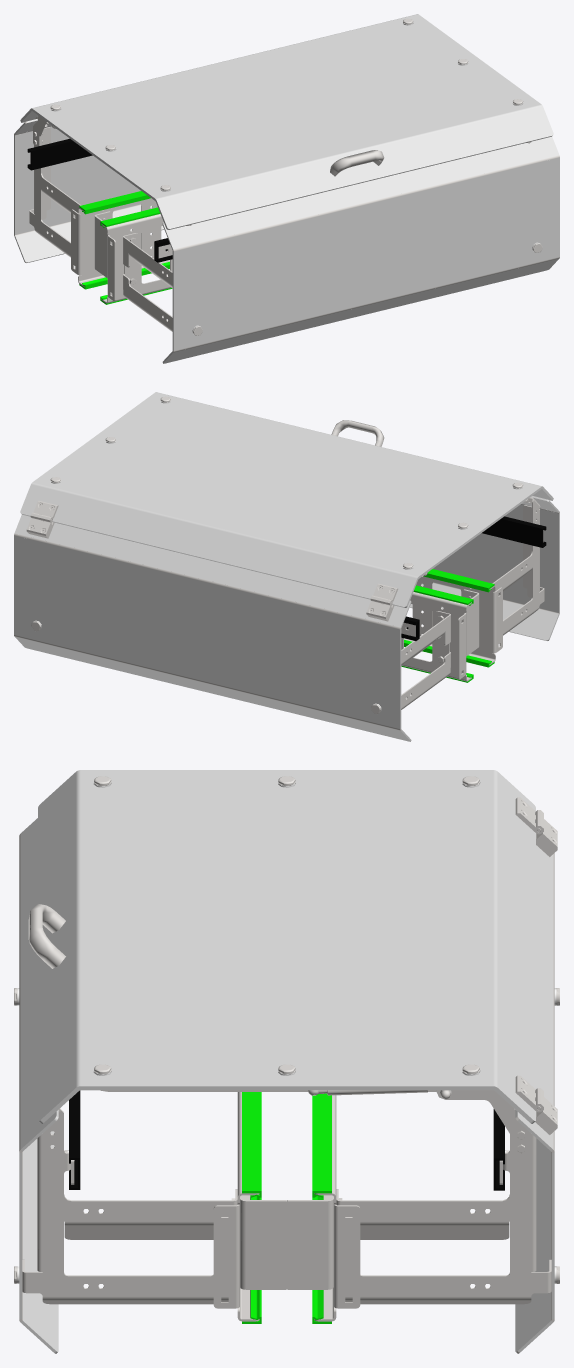
3 renders of one model, top to bottom at view 1: azimuth 30°, elevation 25°; view 2: azimuth 150°, elevation 25°; view 3: azimuth 270°, elevation 25°, orthographic. The views are drawn at different scales.
Parts seen in each view (by area): view 1: glass, base; view 2: glass, base; view 3: glass, base.
Boxes of the visible parts, x1,y1,x2,y2 form: glass: (14, 14, 559, 363); base: (14, 18, 559, 352); glass: (14, 392, 559, 741); base: (14, 396, 559, 741); glass: (19, 770, 554, 1353); base: (14, 776, 559, 1353).
Bounding box in the file's own units: 1 × 0.4104 × 0.726.
1 material, 1 textured.
